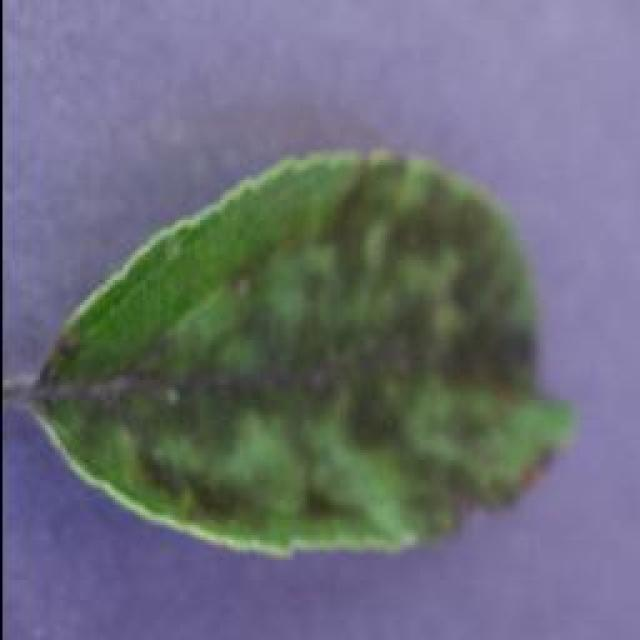apple scab disease: (23, 142, 575, 560)
